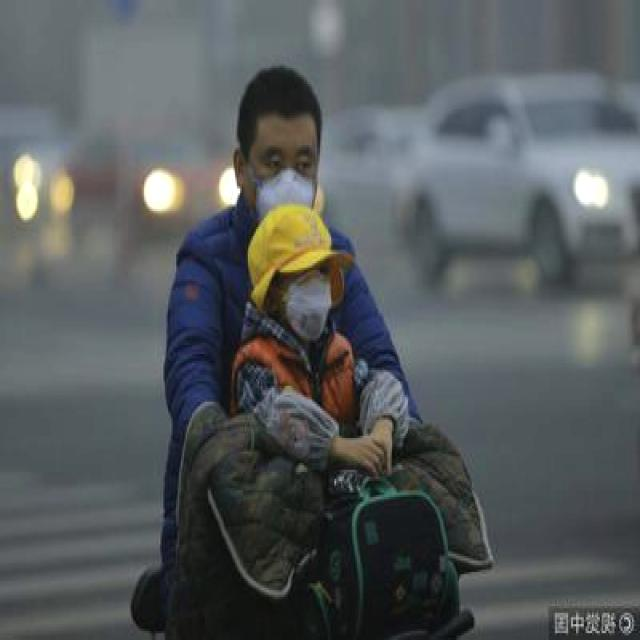face_mask: (248, 136, 318, 232), (283, 259, 338, 338)
hand_noglove: (350, 427, 388, 483)
head_nohelmet: (240, 68, 323, 134)
person: (160, 32, 480, 640), (235, 190, 384, 542)
